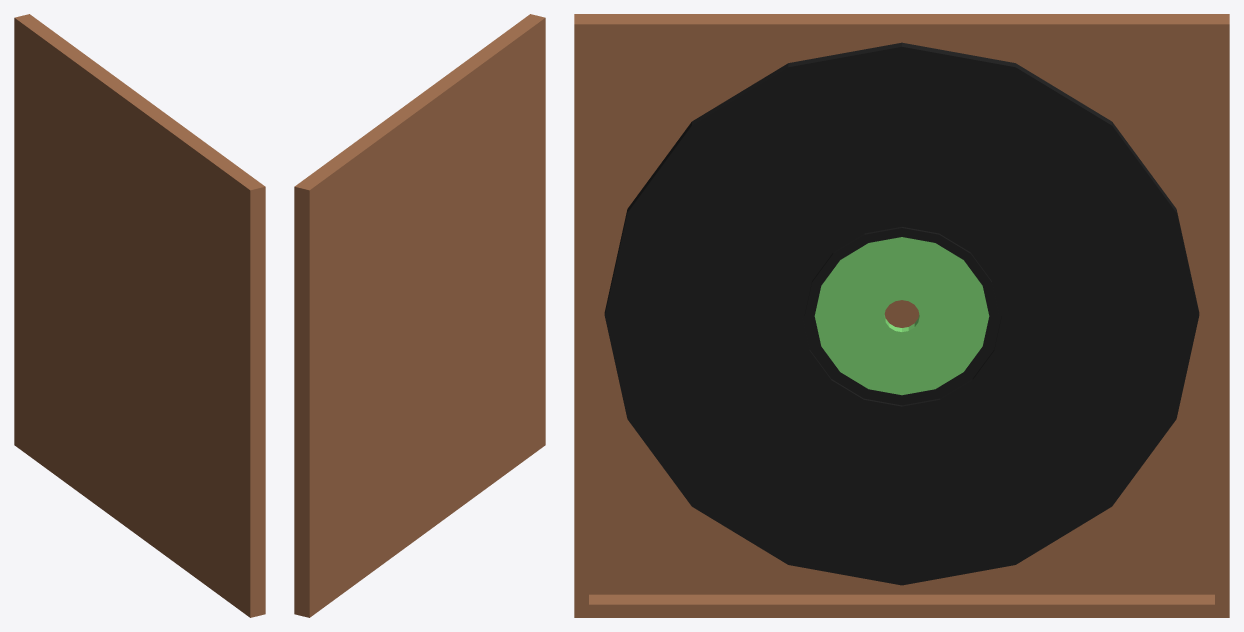
File: record-green.glb
The picture shows the model from 3 angles, left to right: view 1: azimuth 30°, elevation 25°; view 2: azimuth 150°, elevation 25°; view 3: azimuth 270°, elevation 25°; orthographic projection. The views are drawn at different scales.
Parts seen in each view (by area): view 1: case; view 2: case; view 3: disc, case.
Part boxes in pixels (left/top/right/bottom): case: left=14, top=14, right=265, bottom=617; case: left=294, top=14, right=545, bottom=617; disc: left=604, top=42, right=1199, bottom=585; case: left=574, top=14, right=1229, bottom=617.
Bounding box in the file's own units: 0.1489 × 4.01 × 4.01.
